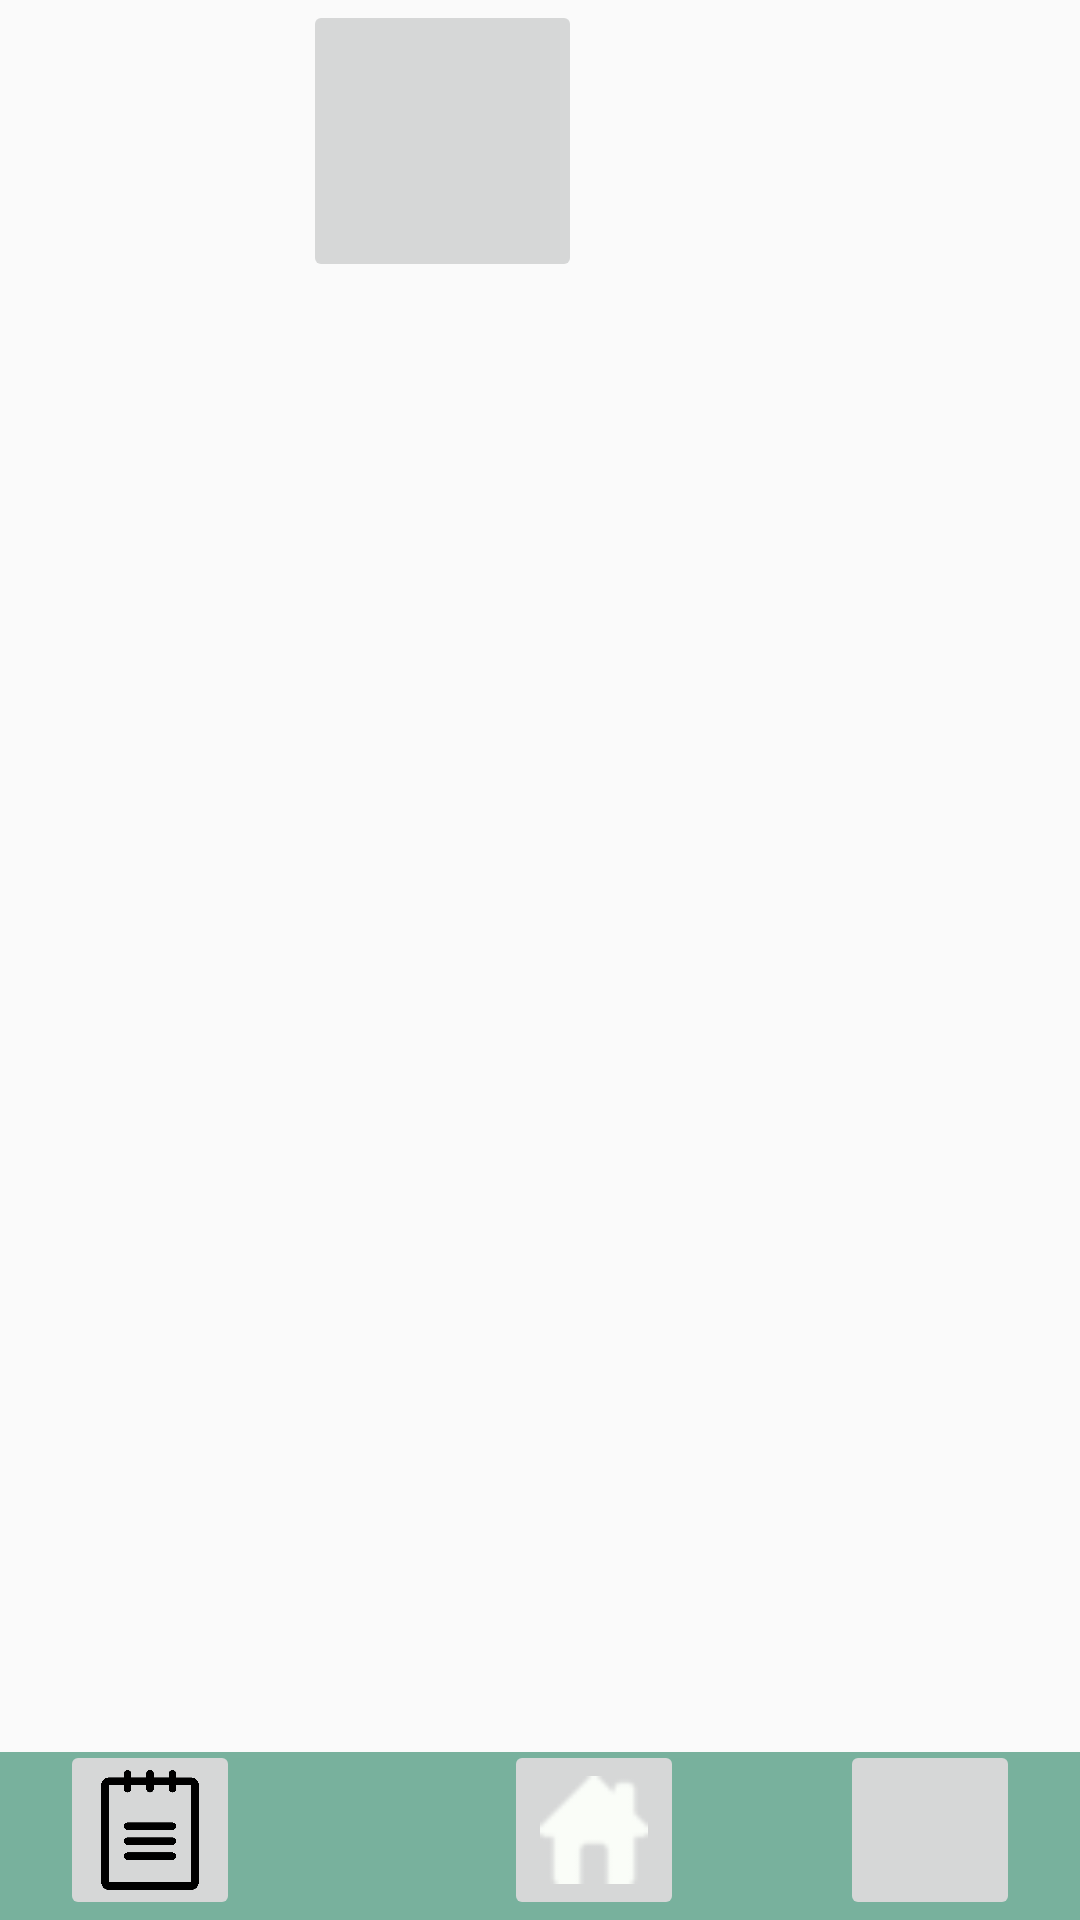

Point at icon controls on the screen. Image size 1080w x 1920h, points as (x,y).
homebutt: (594,1830)
notes: (150,1830)
